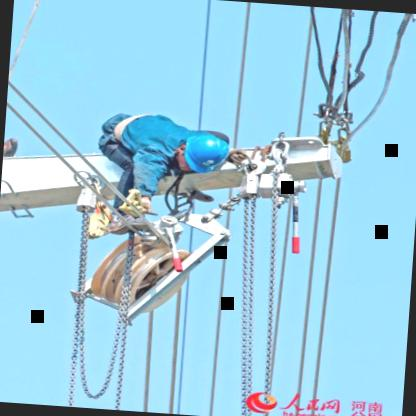helmet: (176, 126, 235, 177)
